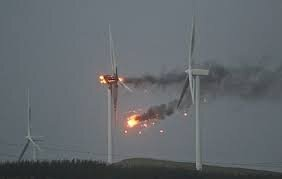faulty: (97, 38, 164, 135)
